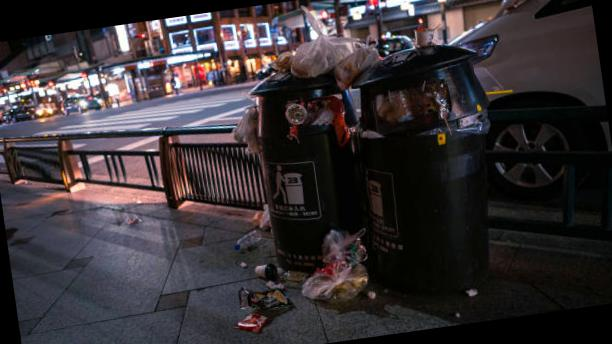trash: (248, 0, 394, 104), (346, 68, 496, 146), (293, 220, 380, 310), (256, 74, 350, 149), (228, 275, 292, 321), (223, 98, 266, 148), (212, 225, 265, 257), (239, 194, 276, 234), (233, 306, 270, 340), (245, 259, 276, 288)
trash_can_overflow: (339, 14, 502, 305), (230, 37, 393, 317)
